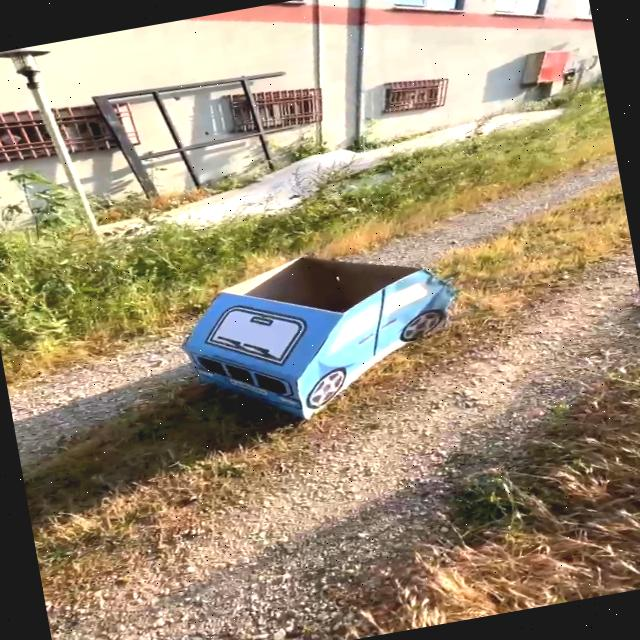blue_car: (81, 187, 524, 475)
